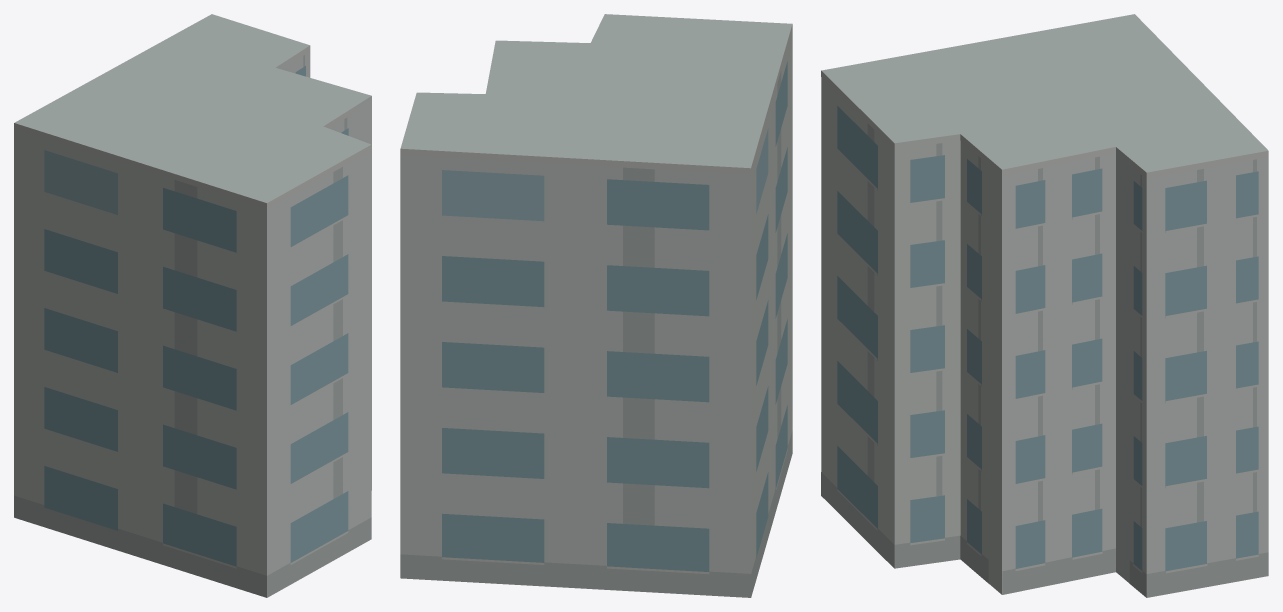
Rendered from survey-upis-32859931.glb.
3 renders of one model, left to right at view 1: azimuth 30°, elevation 25°; view 2: azimuth 150°, elevation 25°; view 3: azimuth 270°, elevation 25°, orthographic. The views are drawn at different scales.
Visible parts, largest first — view 1: survey-upis-32859931.tmp; view 2: survey-upis-32859931.tmp; view 3: survey-upis-32859931.tmp.
Boxes of the visible parts, bbox=[...] form: survey-upis-32859931.tmp: bbox=[14, 14, 371, 597]; survey-upis-32859931.tmp: bbox=[400, 14, 792, 597]; survey-upis-32859931.tmp: bbox=[821, 14, 1268, 597].
Bounding box in the file's own units: 12.85 × 16.05 × 15.31.
